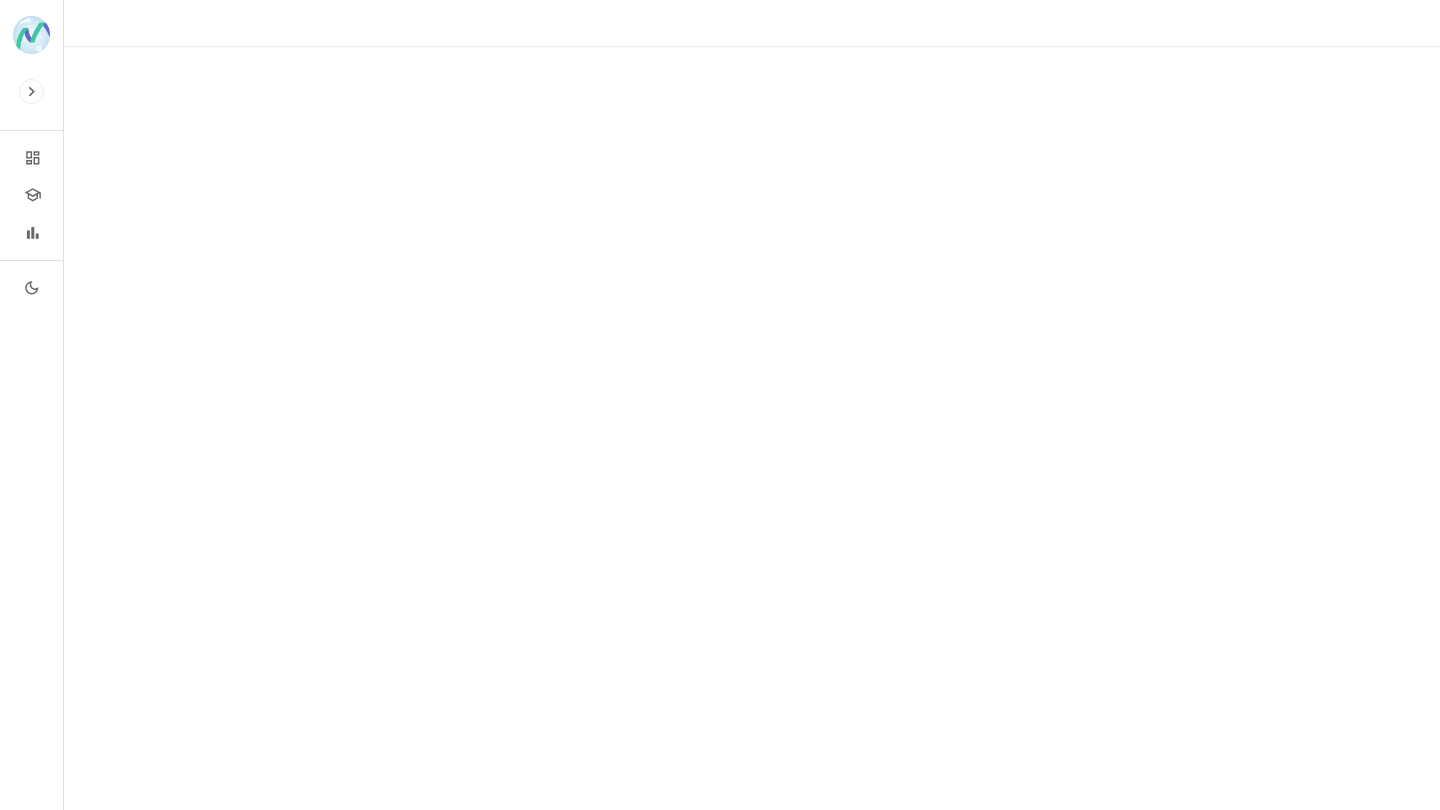
Test case: MenuBar mini drawer (md up to xl) › expands to the full drawer from the arrow on the mini drawer
Click the button named "Expand menu" at (32, 91), box [19, 79, 44, 104]
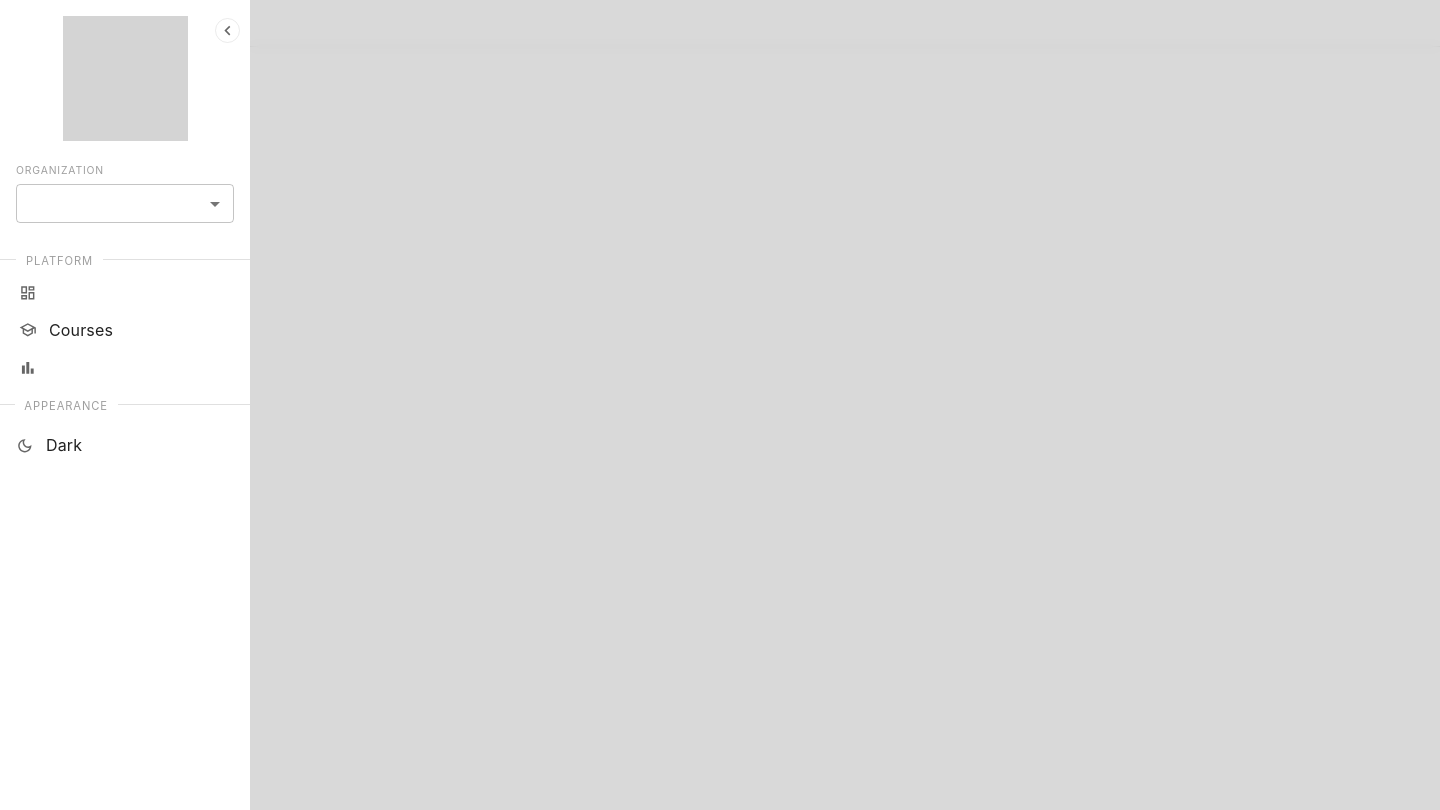
Check: the text "Courses" is shown, box [49, 320, 113, 340]
Check: the dropdown named "Select organization" is shown, box [16, 184, 234, 223]
